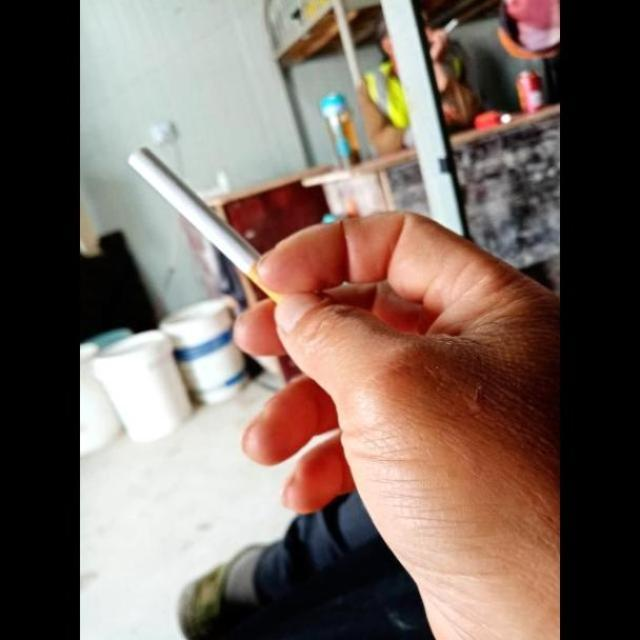rokok: (124, 140, 300, 300)
